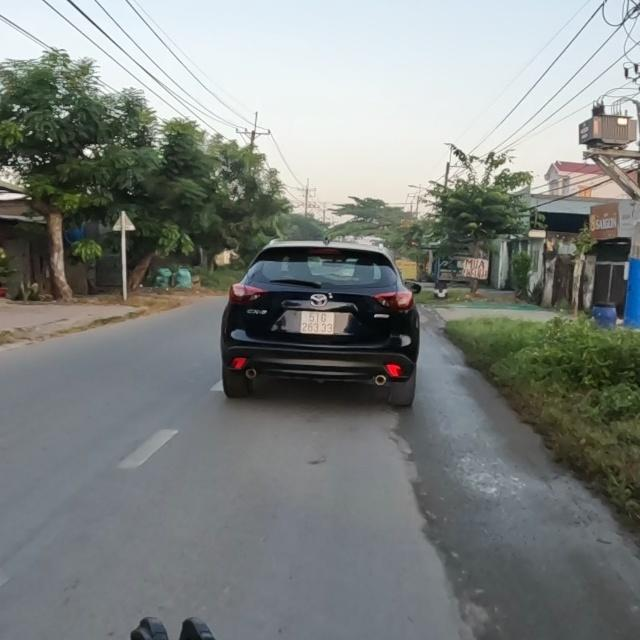license-plate: (298, 309, 336, 335)
